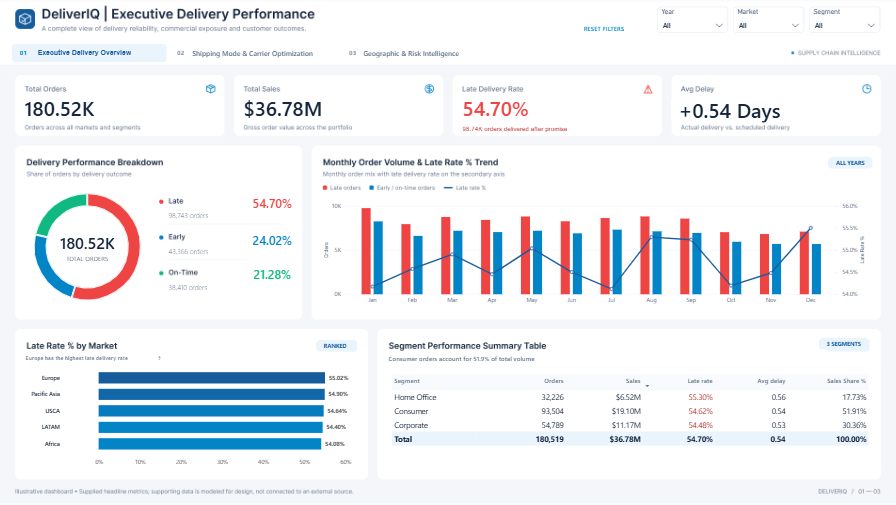

Layout of this report page (visuals, bound fields, positions):
{"tool":"powerbi","page":{"name":"Executive Delivery Overview","canvas":[1920,1080],"ordinal":0},"visuals":[{"type":"pageNavigator","box":[34,100,1004,39],"z":0,"group":"g1"},{"type":"clusteredBarChart","fields":{"Category":["cleaned_supply_chain_data.market"],"Y":["All Measures.Late Delivery Rate %"]},"box":[56.7,776.7,316.7,224.4],"z":0},{"type":"shape","box":[34,104,48.6,30],"z":1000,"group":"g1"},{"type":"cardVisual","fields":{"Data":["All Measures.Total Orders"]},"box":[45,212.5,195,47.5],"z":1000},{"type":"cardVisual","fields":{"Data":["All Measures.Total Sales"]},"box":[510,212.5,227.5,47.5],"z":2000},{"type":"cardVisual","fields":{"Data":["All Measures.Late Delivery Rate %"]},"box":[976.2,212.5,217.5,47.5],"z":3000},{"type":"cardVisual","fields":{"Data":["All Measures.late delivery rate icon"]},"box":[975,267,280,27.8],"z":4000},{"type":"group","id":"g1","title":"Group 1","box":[34,100,1004,39],"z":5000,"group":"g2"},{"type":"cardVisual","fields":{"Data":["All Measures.avrg delayed days icon"]},"box":[1435.6,212.2,260,54.4],"z":5000},{"type":"shape","box":[373.9,105,37,30],"z":6000,"group":"g2"},{"type":"shape","box":[702,105,35,34],"z":6000},{"type":"shape","box":[34,101,951,38],"z":7000},{"type":"group","id":"g2","title":"Group 2","box":[34,100,1004,39],"z":7500,"group":"g3"},{"type":"group","id":"g3","title":"Group 3","box":[34,100,1004,39],"z":8000},{"type":"shape","box":[739.2,105,37,30],"z":8000,"group":"g3"},{"type":"slicer","title":"Year","fields":{"Values":["cleaned_supply_chain_data.order_date.Variation.Date Hierarchy.Year"]},"box":[1406,22,151,55],"z":9000},{"type":"slicer","title":"Year","fields":{"Values":["cleaned_supply_chain_data.market"]},"box":[1566,22,151,55],"z":10000},{"type":"slicer","title":"Year","fields":{"Values":["cleaned_supply_chain_data.customer_segment"]},"box":[1729,22,151,55],"z":11000},{"type":"donutChart","fields":{"Category":["cleaned_supply_chain_data.delivery_performance"],"Y":["All Measures.Total Orders"]},"box":[44.3,390,298.6,284.3],"z":12000},{"type":"cardVisual","fields":{"Data":["All Measures.late orders"]},"box":[351,453,122,19],"z":13000},{"type":"cardVisual","fields":{"Data":["All Measures.early orders icon"]},"box":[351,530,122,19],"z":14000},{"type":"cardVisual","fields":{"Data":["All Measures.on-time orders icon"]},"box":[351,605,122,19],"z":15000},{"type":"cardVisual","fields":{"Data":["All Measures.late orders %"]},"box":[530,406.2,118.8,65],"z":16000},{"type":"cardVisual","fields":{"Data":["All Measures.early orders %"]},"box":[530,483.8,118.8,65],"z":17000},{"type":"cardVisual","fields":{"Data":["All Measures.on time orders %"]},"box":[532,558,118.8,65],"z":18000},{"type":"lineClusteredColumnComboChart","fields":{"Category":["cleaned_supply_chain_data.order date month format"],"Y":["All Measures.Total Late Orders","All Measures.Total Early Orders"],"Y2":["All Measures.Late Delivery Rate %"]},"box":[680,422,1184,252],"z":19000},{"type":"cardVisual","fields":{"Data":["All Measures.combo chart year icon"]},"box":[1768.2,340,95.5,25.5],"z":20000},{"type":"clusteredBarChart","fields":{"Category":["cleaned_supply_chain_data.market"],"Y":["All Measures.Late Delivery Rate %"]},"box":[192.9,776.8,583.9,225],"z":21000},{"type":"cardVisual","fields":{"Data":["All Measures.late rate % by market bar chart icon"]},"box":[47,755,298.9,27.6],"z":22000},{"type":"cardVisual","fields":{"Data":["All Measures.ranked icon"]},"box":[680,729,88,25],"z":23000},{"type":"cardVisual","fields":{"Data":["All Measures.3 segments icon"]},"box":[1750,725.7,107,25],"z":24000},{"type":"tableEx","fields":{"Values":["cleaned_supply_chain_data.customer_segment","All Measures.Total Orders","All Measures.Total Sales","All Measures.Late Delivery Rate %","All Measures.Average Delay Days","All Measures.Sales Share %"]},"box":[824.3,788.6,1055.7,212.9],"z":25000},{"type":"actionButton","box":[1192.9,50,200,27.1],"z":26000},{"type":"cardVisual","fields":{"Data":["All Measures.Segmanet Performace icon"]},"box":[819.5,755,397.8,26.2],"z":27000}]}

Visuals, with their boxes in screenshot pixels (x1, y1, x2, y2), scaled from the page's 1920x1080 canvas onto the 896x505 screenshot:
pageNavigator: 16 47 484 65
clusteredBarChart - cleaned_supply_chain_data.market x All Measures.Late Delivery Rate %: 26 363 174 468
shape: 16 49 39 63
cardVisual - All Measures.Total Orders: 21 99 112 122
cardVisual - All Measures.Total Sales: 238 99 344 122
cardVisual - All Measures.Late Delivery Rate %: 456 99 557 122
cardVisual - All Measures.late delivery rate icon: 455 125 586 138
"Group 1" group: 16 47 484 65
cardVisual - All Measures.avrg delayed days icon: 670 99 791 125
shape: 174 49 192 63
shape: 328 49 344 65
shape: 16 47 460 65
"Group 2" group: 16 47 484 65
"Group 3" group: 16 47 484 65
shape: 345 49 362 63
"Year" slicer: 656 10 727 36
"Year" slicer: 731 10 801 36
"Year" slicer: 807 10 877 36
donutChart - cleaned_supply_chain_data.delivery_performance x All Measures.Total Orders: 21 182 160 315
cardVisual - All Measures.late orders: 164 212 221 221
cardVisual - All Measures.early orders icon: 164 248 221 257
cardVisual - All Measures.on-time orders icon: 164 283 221 292
cardVisual - All Measures.late orders %: 247 190 303 220
cardVisual - All Measures.early orders %: 247 226 303 257
cardVisual - All Measures.on time orders %: 248 261 304 291
lineClusteredColumnComboChart - cleaned_supply_chain_data.order date month format x All Measures.Total Late Orders: 317 197 870 315
cardVisual - All Measures.combo chart year icon: 825 159 870 171
clusteredBarChart - cleaned_supply_chain_data.market x All Measures.Late Delivery Rate %: 90 363 363 468
cardVisual - All Measures.late rate % by market bar chart icon: 22 353 161 366
cardVisual - All Measures.ranked icon: 317 341 358 353
cardVisual - All Measures.3 segments icon: 817 339 867 351
tableEx - cleaned_supply_chain_data.customer_segment x All Measures.Total Orders: 385 369 877 468
actionButton: 557 23 650 36
cardVisual - All Measures.Segmanet Performace icon: 382 353 568 365
